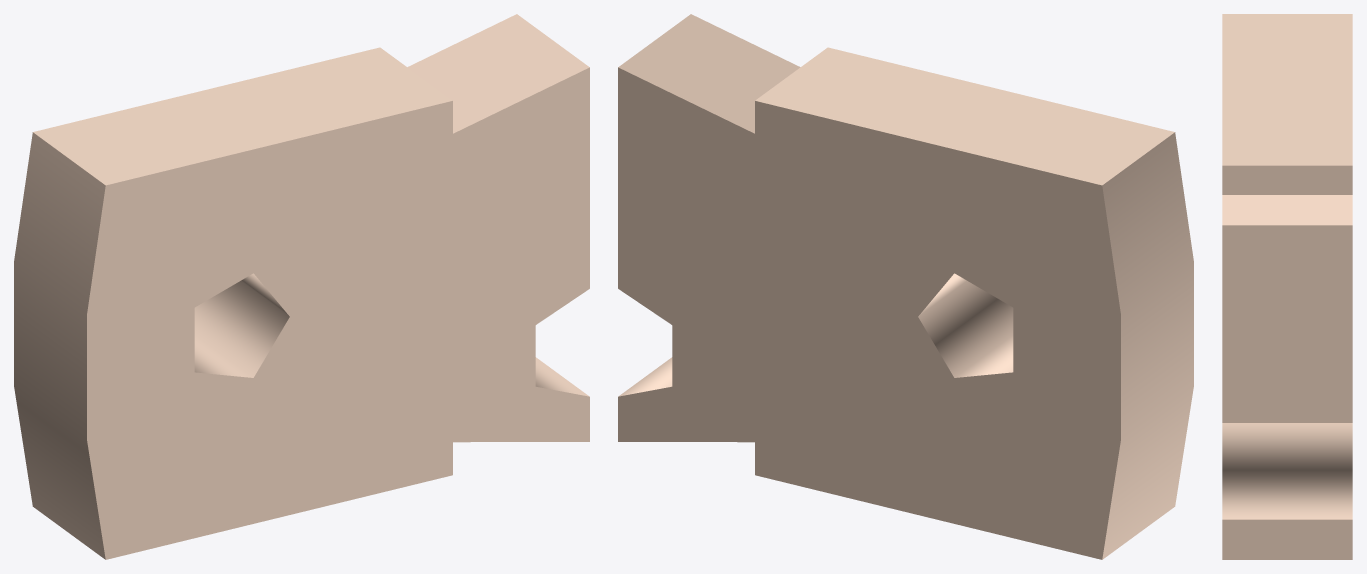
The model's file is Pont Petite detente.obj.
3 renders of one model, left to right at view 1: azimuth 30°, elevation 25°; view 2: azimuth 150°, elevation 25°; view 3: azimuth 270°, elevation 25°, orthographic. The views are drawn at different scales.
Parts seen in each view (by area): view 1: Face_11, Face_8, Face_9, Face_3, Face_13, Face_12; view 2: Face_10, Face_8, Face_9, Face_3, Face_13, Face_12; view 3: Face_4, Face_9, Face_12, Face_1, Face_3, Face_2.
Boxes of the visible parts, x1,y1,x2,y2 form: Face_11: (87, 67, 589, 559); Face_8: (14, 132, 105, 559); Face_9: (33, 47, 452, 185); Face_3: (407, 14, 589, 133); Face_13: (194, 273, 289, 377); Face_12: (535, 357, 589, 396); Face_10: (618, 67, 1120, 559); Face_8: (1102, 132, 1193, 559); Face_9: (755, 47, 1174, 185); Face_3: (618, 14, 800, 133); Face_13: (918, 273, 1013, 377); Face_12: (618, 357, 672, 396); Face_4: (1222, 225, 1352, 422); Face_9: (1222, 14, 1352, 165); Face_12: (1222, 423, 1352, 519); Face_1: (1222, 519, 1352, 559); Face_3: (1222, 195, 1352, 225); Face_2: (1222, 165, 1352, 194).
Size of the model in its own units: 0.0239 by 0.017 by 0.006.
